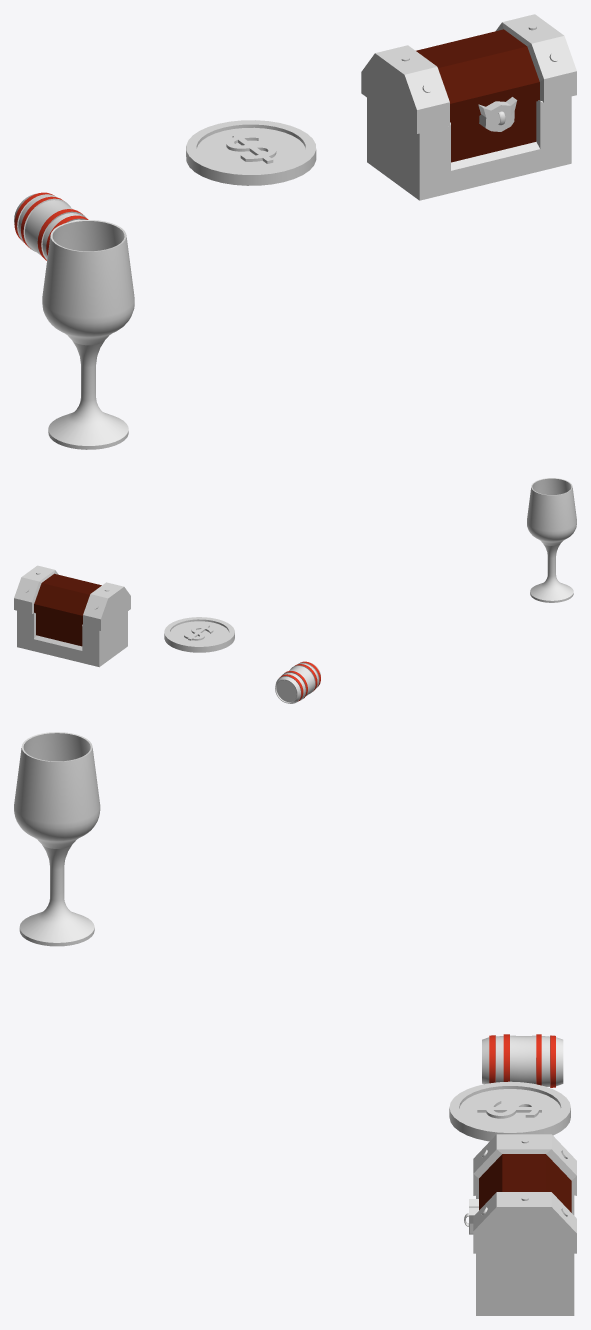
Rendered from Stuff.fbx.
The picture shows the model from 3 angles, top to bottom: view 1: azimuth 30°, elevation 25°; view 2: azimuth 150°, elevation 25°; view 3: azimuth 270°, elevation 25°; orthographic projection. The views are drawn at different scales.
Parts seen in each view (by area): view 1: Cube, Cylinder.002, Cylinder.001, Cylinder, Cube.001, Text; view 2: Cube, Cylinder.002, Cylinder.001, Cylinder; view 3: Cube, Cylinder.002, Cylinder.001, Cylinder, Text.
Part boxes in pixels (x1,y1,x2,y2): Cube: [361, 14, 576, 200]; Cylinder.002: [42, 220, 134, 449]; Cylinder.001: [186, 120, 316, 185]; Cylinder: [14, 192, 88, 260]; Cube.001: [478, 97, 517, 131]; Text: [226, 134, 276, 163]; Cube: [14, 565, 130, 667]; Cylinder.002: [527, 478, 576, 602]; Cylinder.001: [164, 617, 234, 652]; Cylinder: [275, 661, 320, 703]; Cube: [473, 1134, 576, 1315]; Cylinder.002: [14, 732, 100, 946]; Cylinder.001: [449, 1081, 570, 1141]; Cylinder: [482, 1034, 563, 1087]; Text: [477, 1100, 541, 1118].
Size of the model in its own units: 427 by 144 by 297.
